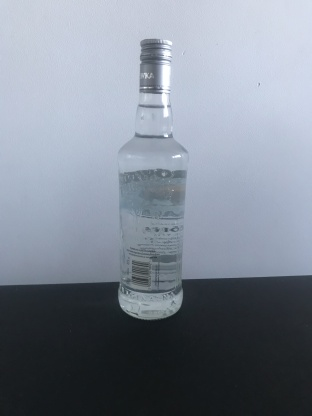nakretka: (138, 36, 173, 95)
